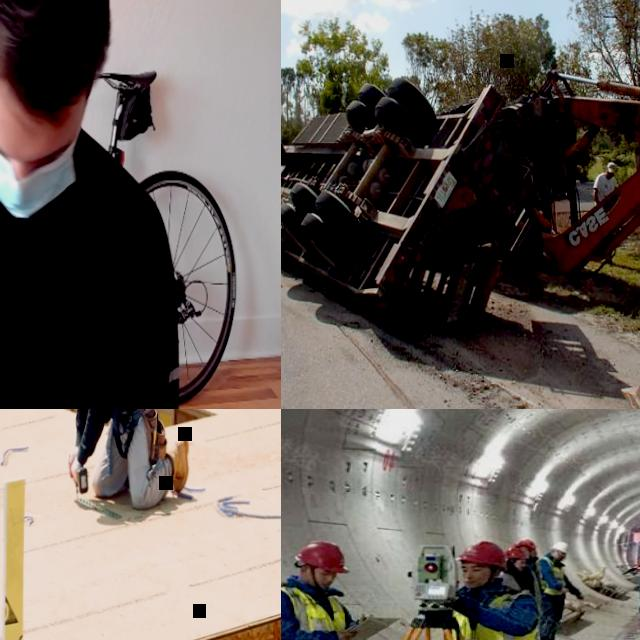Hardhat: (293, 541, 350, 573), (460, 539, 508, 569), (503, 547, 531, 559), (547, 541, 569, 553), (520, 537, 537, 548)
Mask: (0, 126, 79, 217), (556, 553, 566, 561)
NO-Hardhat: (0, 0, 116, 109), (607, 159, 615, 172)
NO-Mask: (462, 574, 486, 588), (309, 576, 333, 589), (515, 562, 523, 570), (605, 175, 612, 180)
NO-Safety Vest: (0, 119, 139, 409), (503, 569, 541, 611), (598, 174, 614, 196), (527, 559, 539, 581)
Person: (0, 0, 182, 409), (63, 409, 189, 509), (443, 538, 556, 640), (281, 540, 356, 640), (536, 538, 584, 640), (513, 537, 545, 640), (592, 160, 618, 264), (504, 547, 536, 594)
Safety Vest: (447, 586, 542, 640), (281, 584, 352, 640), (540, 555, 567, 593)
vehicle: (281, 76, 640, 319)
